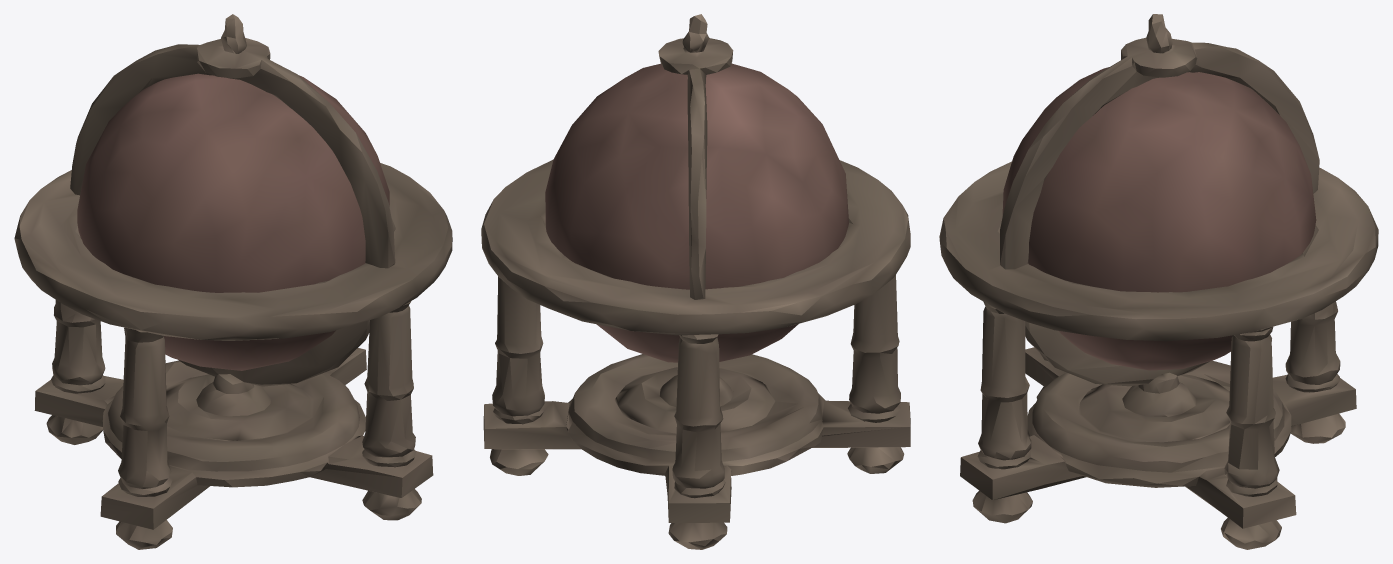
File: Globe01.fbx
3 renders of one model, left to right at view 1: azimuth 30°, elevation 25°; view 2: azimuth 150°, elevation 25°; view 3: azimuth 270°, elevation 25°, orthographic. The views are drawn at different scales.
Visible parts, largest first — view 1: Frame01, Body01; view 2: Frame01, Body01; view 3: Frame01, Body01.
Part boxes in pixels (box(x1,y1,x2,y2)): Frame01: box(14, 14, 452, 549); Body01: box(77, 73, 389, 370); Frame01: box(481, 14, 910, 549); Body01: box(545, 63, 848, 362); Frame01: box(939, 14, 1378, 549); Body01: box(1002, 67, 1316, 370).
Bounding box in the file's own units: 85.32 × 99.93 × 85.62.
